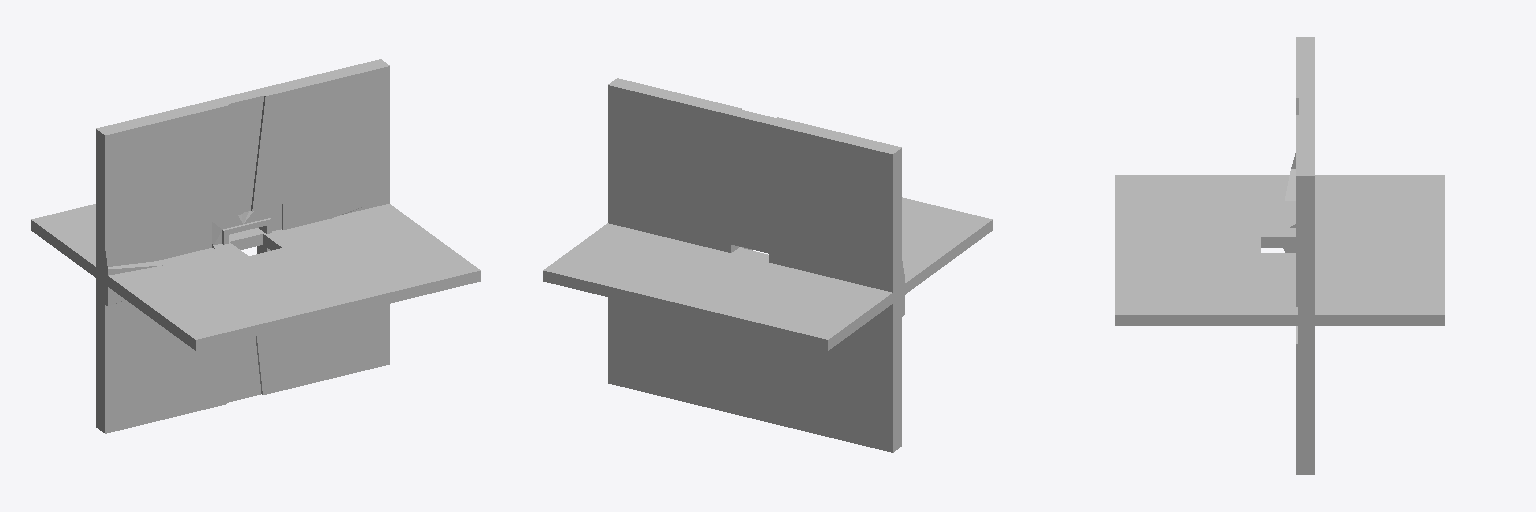
The model's file is Wall2.obj.
3 renders of one model, left to right at view 1: azimuth 30°, elevation 25°; view 2: azimuth 150°, elevation 25°; view 3: azimuth 270°, elevation 25°, orthographic.
Parts seen in each view (by area): view 1: Wall.006_Cube.006, Plane; view 2: Wall.006_Cube.006, Plane; view 3: Plane, Wall.006_Cube.006.
Part boxes in pixels (bbox=[...]): Wall.006_Cube.006: bbox=[96, 59, 389, 433]; Plane: bbox=[31, 204, 480, 350]; Wall.006_Cube.006: bbox=[608, 78, 904, 452]; Plane: bbox=[543, 197, 992, 350]; Plane: bbox=[1115, 175, 1444, 325]; Wall.006_Cube.006: bbox=[1283, 37, 1314, 474].
Size of the model in its own units: 2 by 2 by 2.